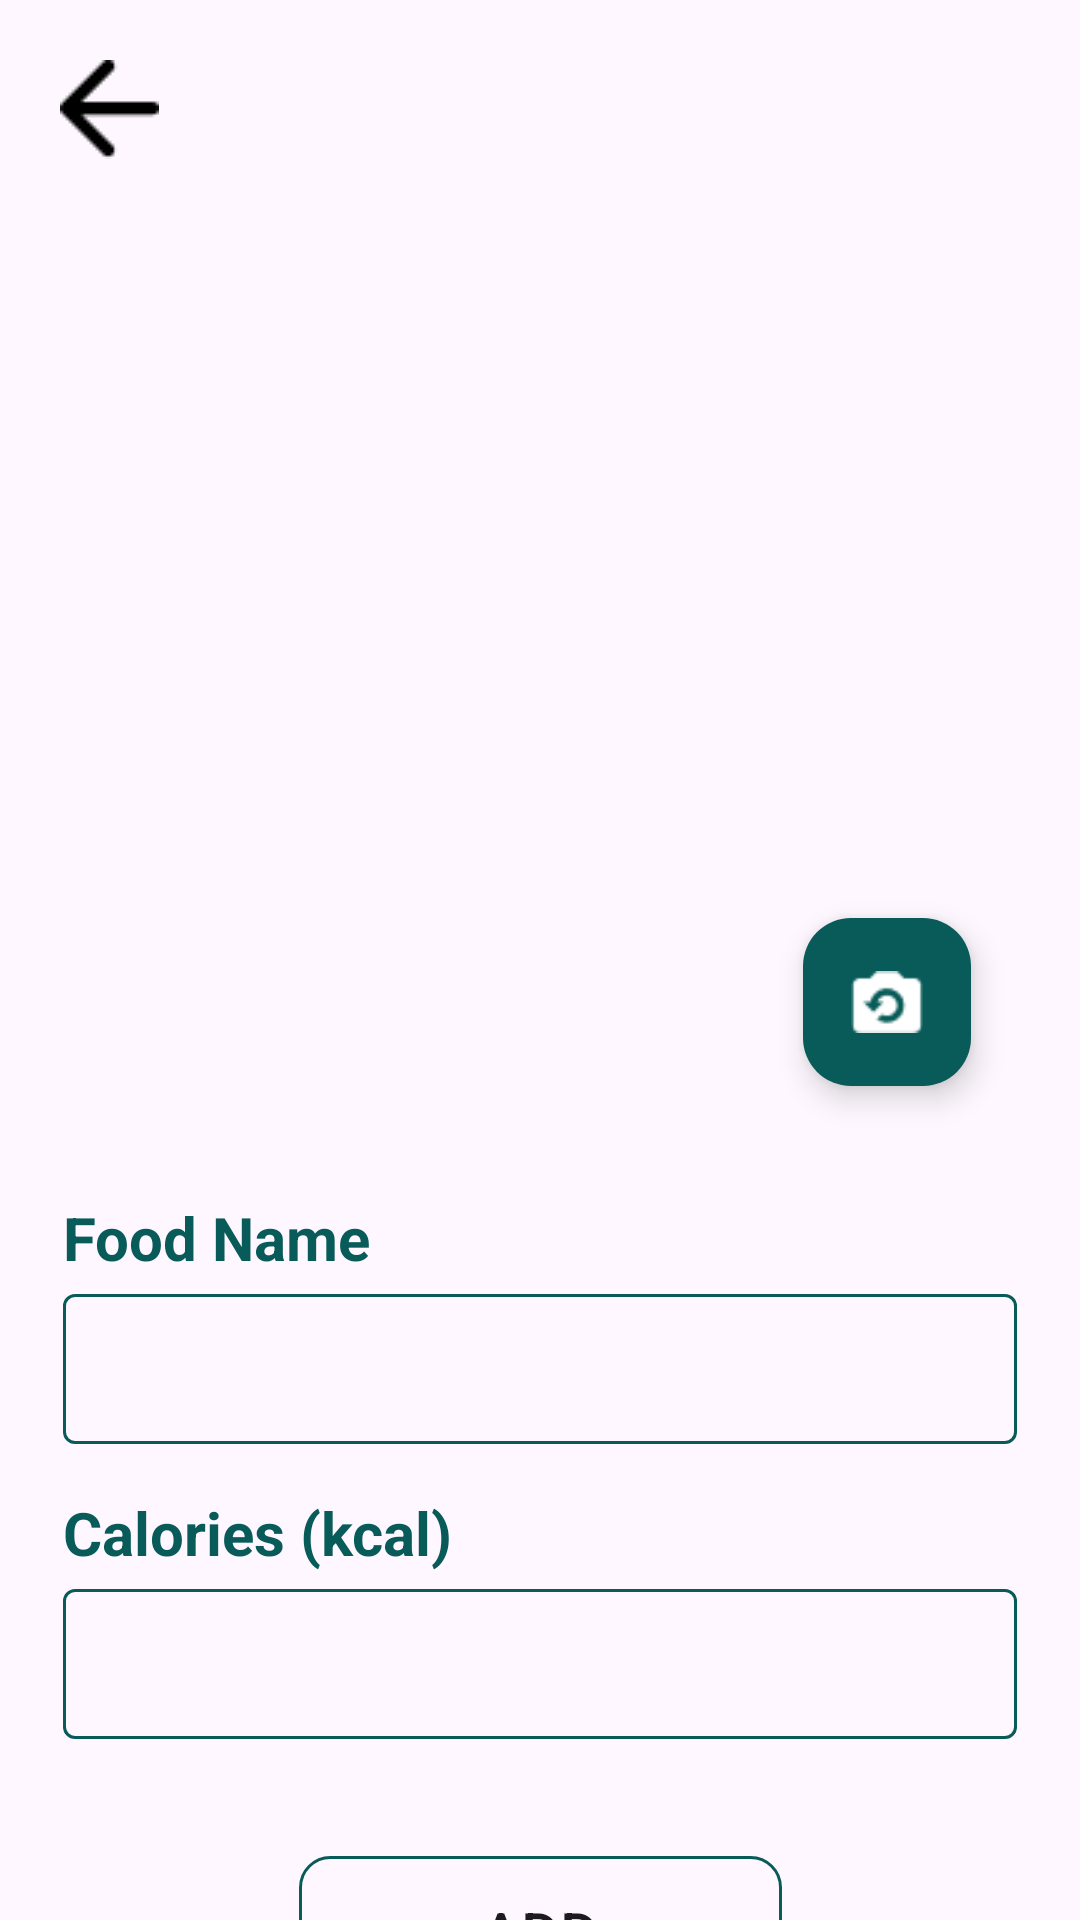

Screen size 1080*1920. Icon name, then its box in pixels as bbox=(x1, y1, x2, y2):
back: bbox=(60, 60, 159, 157)
Retake: bbox=(803, 918, 971, 1086)
